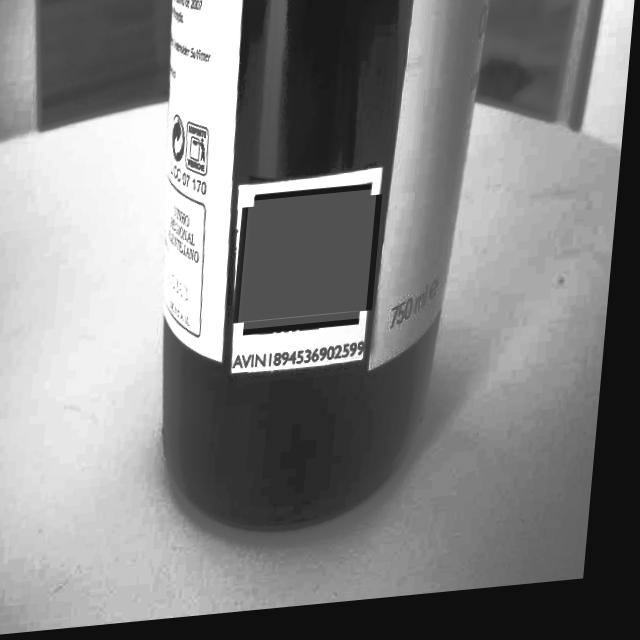qr_code: (244, 197, 381, 336)
